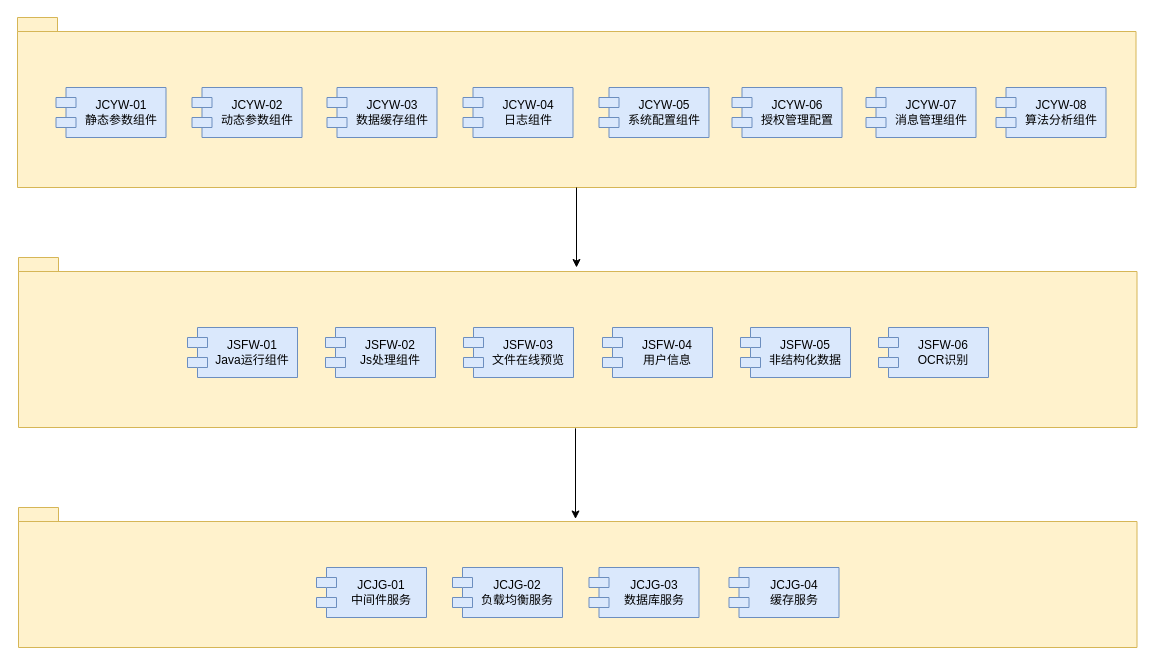
This 1155x665 diagram has some shape labels left out. The box of each missing label's shape, as (x1, y1, x2, y2) in pixels:
基础业务服务层: (16, 16, 1136, 188)
基础架构服务层: (18, 506, 1137, 648)
技术服务层: (18, 256, 1137, 428)
